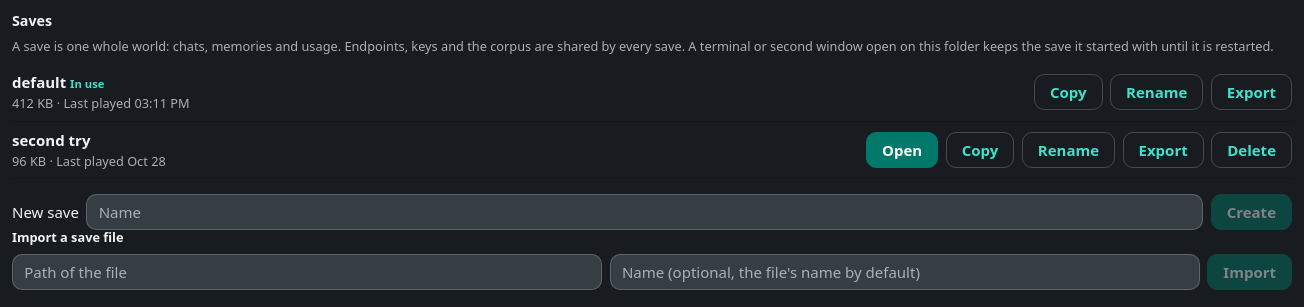
Test: delete asks first
This screenshot has width=1304, height=307.
Expected: the text "second try" is shown, x1=12 y1=130 x2=90 y2=150
Click the button "Delete": (1252, 150) x1=1211 y1=132 x2=1292 y2=168
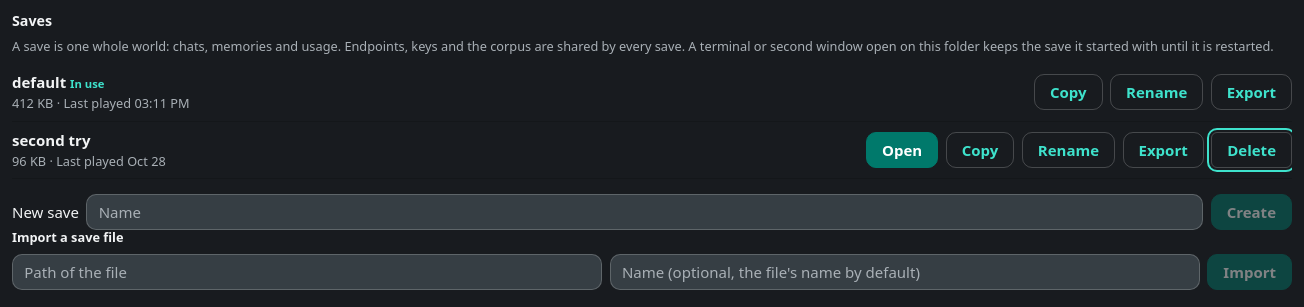
Expected: the text "second try" is shown, x1=12 y1=130 x2=90 y2=150
Click the button "Delete": (1252, 150) x1=1211 y1=132 x2=1292 y2=168
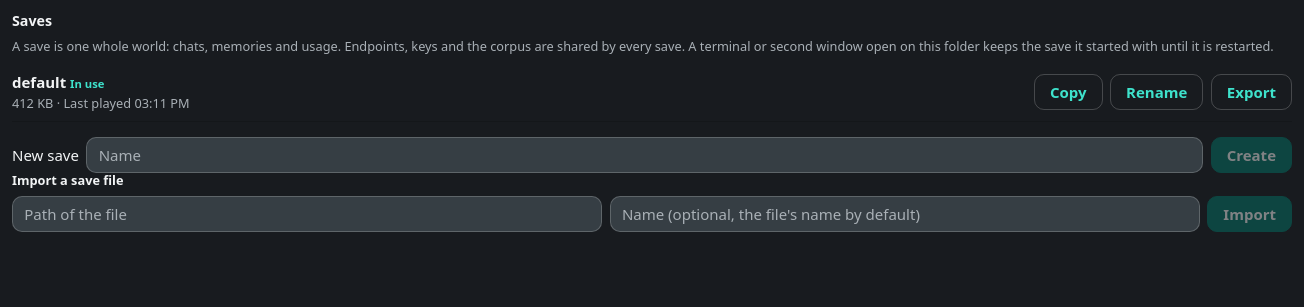
Expected: the text "second try" is gone
